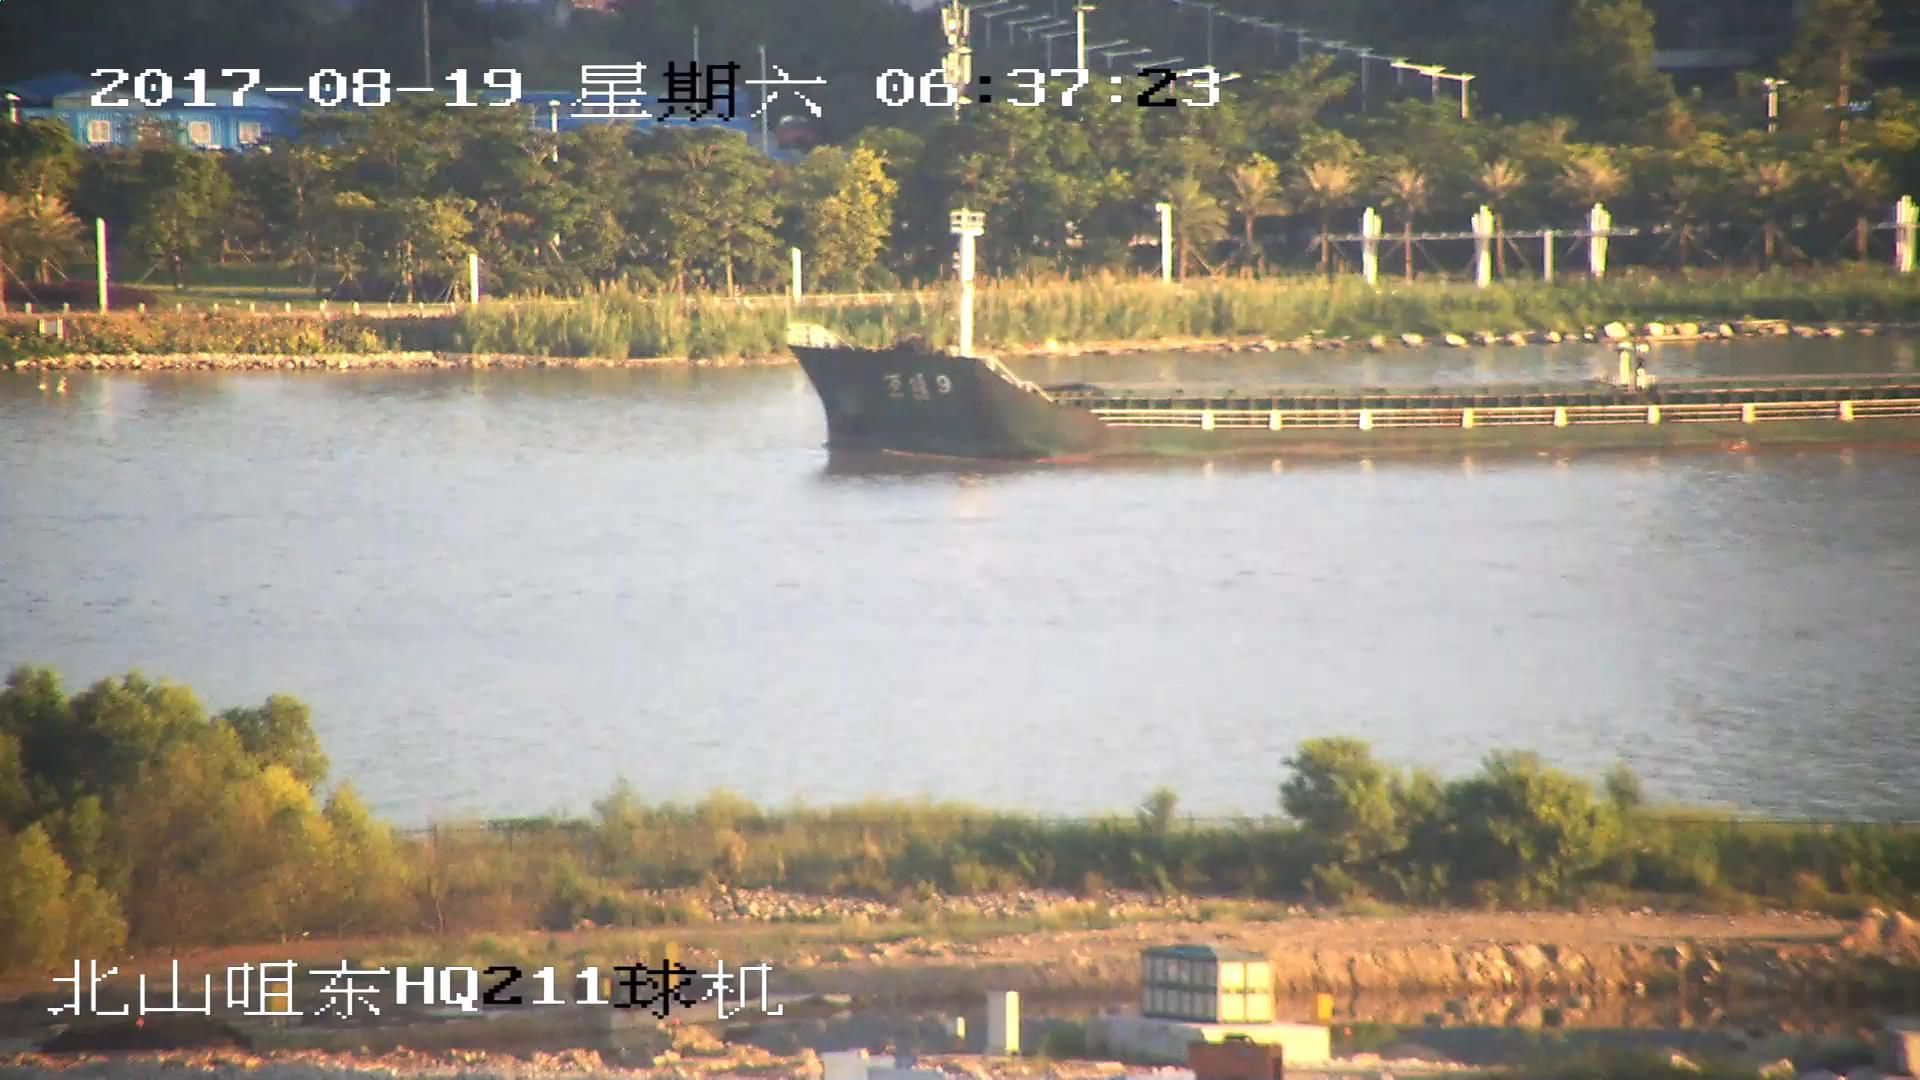Ship: (790, 225, 1920, 459)
